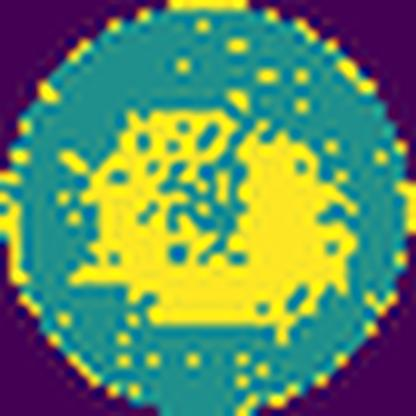Donut: (66, 86, 366, 350)
